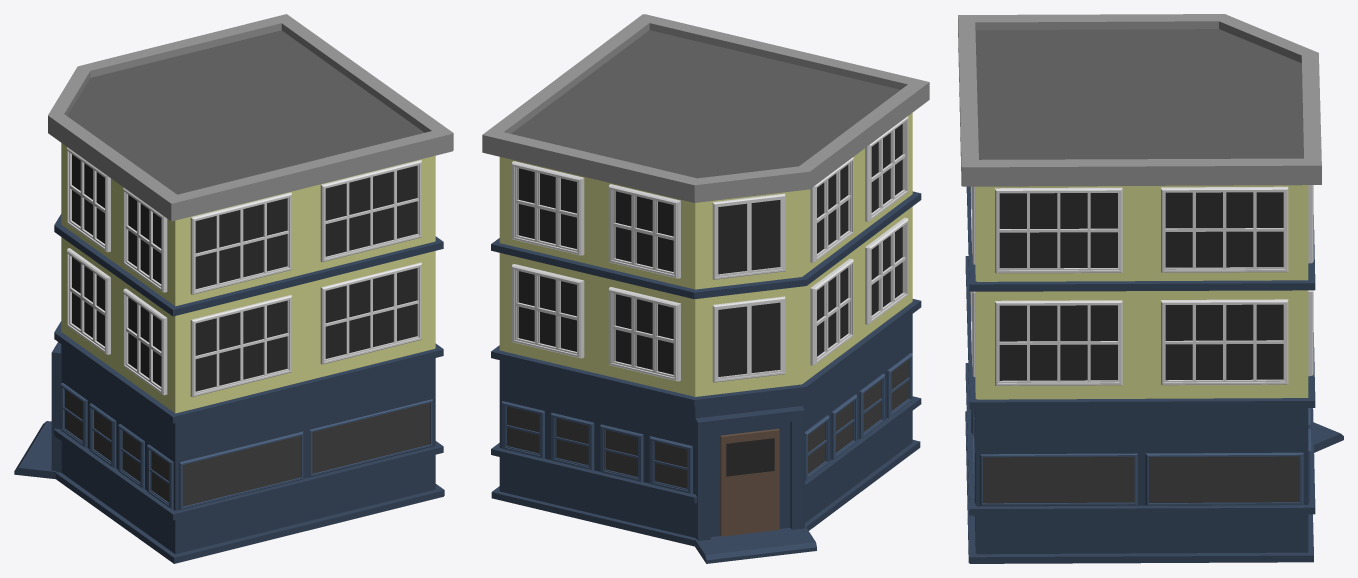
File: BUILDING-5.glb
3 views of the same model, side by side, from view 1: azimuth 30°, elevation 25°; view 2: azimuth 150°, elevation 25°; view 3: azimuth 270°, elevation 25° (orthographic). The views are drawn at different scales.
Visible parts, largest first — view 1: Plane.018; view 2: Plane.018; view 3: Plane.018.
Part boxes in pixels (bbox=[...]): Plane.018: bbox=[14, 14, 453, 563]; Plane.018: bbox=[482, 14, 929, 563]; Plane.018: bbox=[958, 14, 1343, 563].
Size of the model in its own units: 3 by 3.41 by 2.98.
